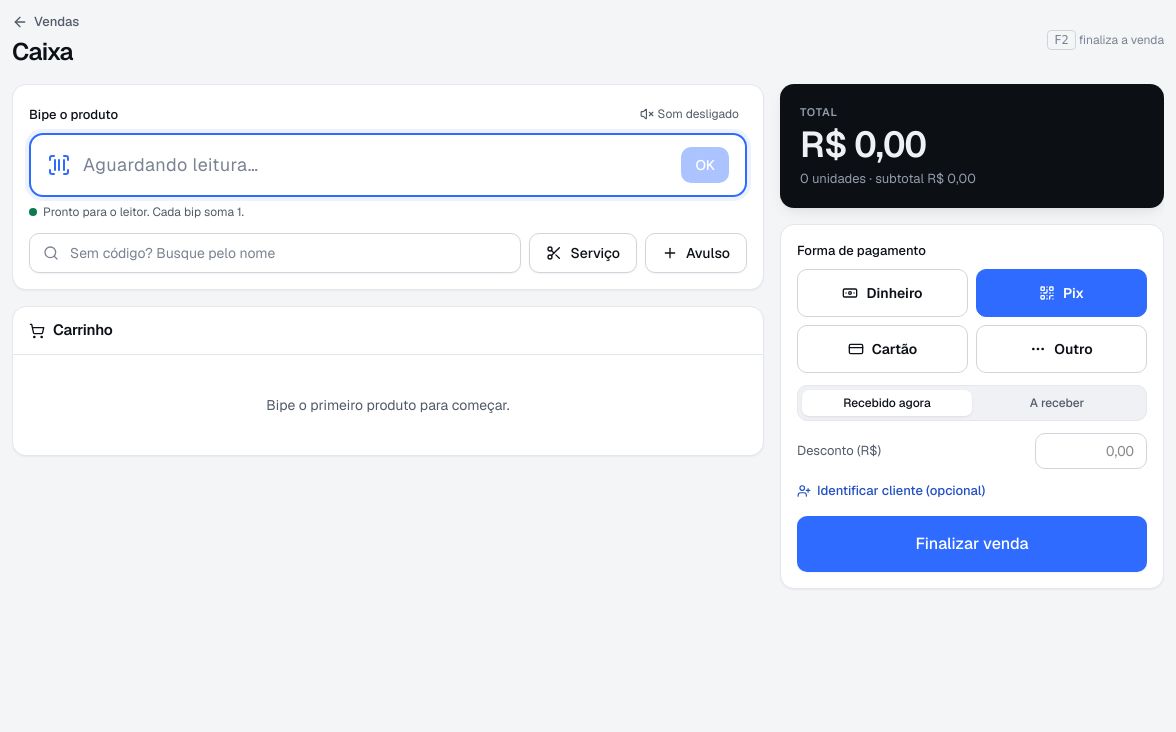
Scenario: Caixa (PDV) › codigo desconhecido: "Produto não encontrado." e nada entra no carrinho
In the field labelled "Bipe o produto": point(376, 165) x1=83 y1=135 x2=670 y2=195, type "0000"
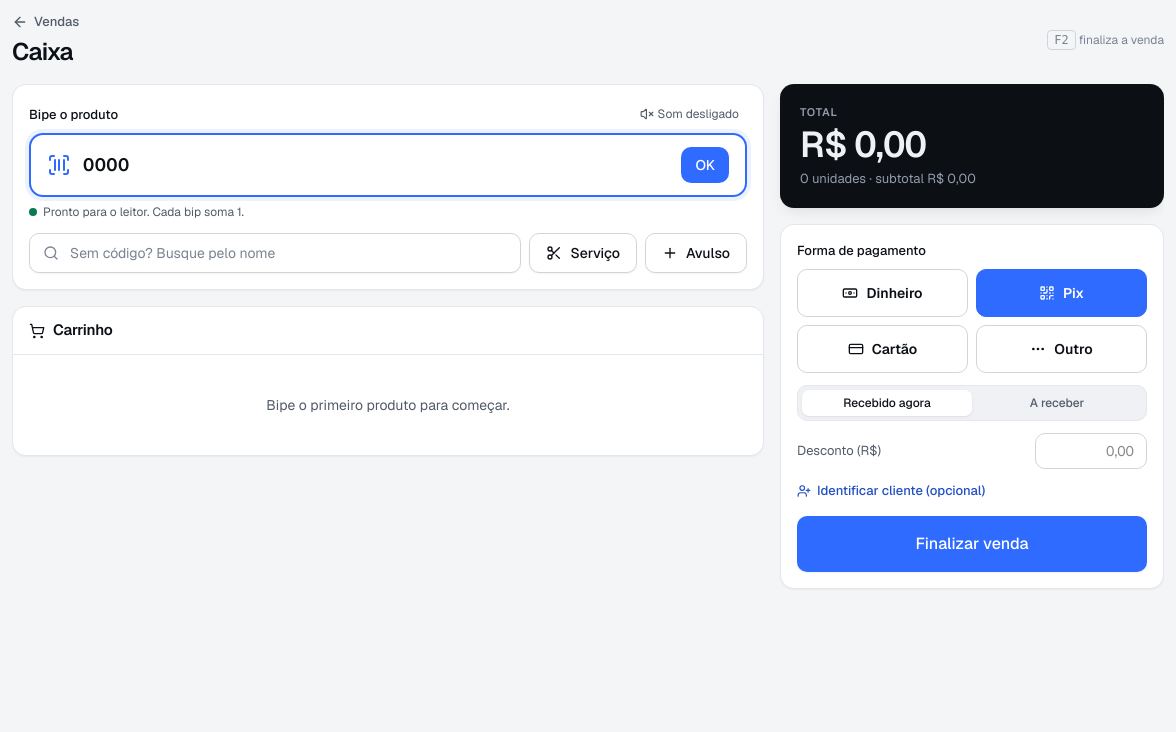
Press Enter in the field labelled "Bipe o produto", box x1=83 y1=135 x2=670 y2=195
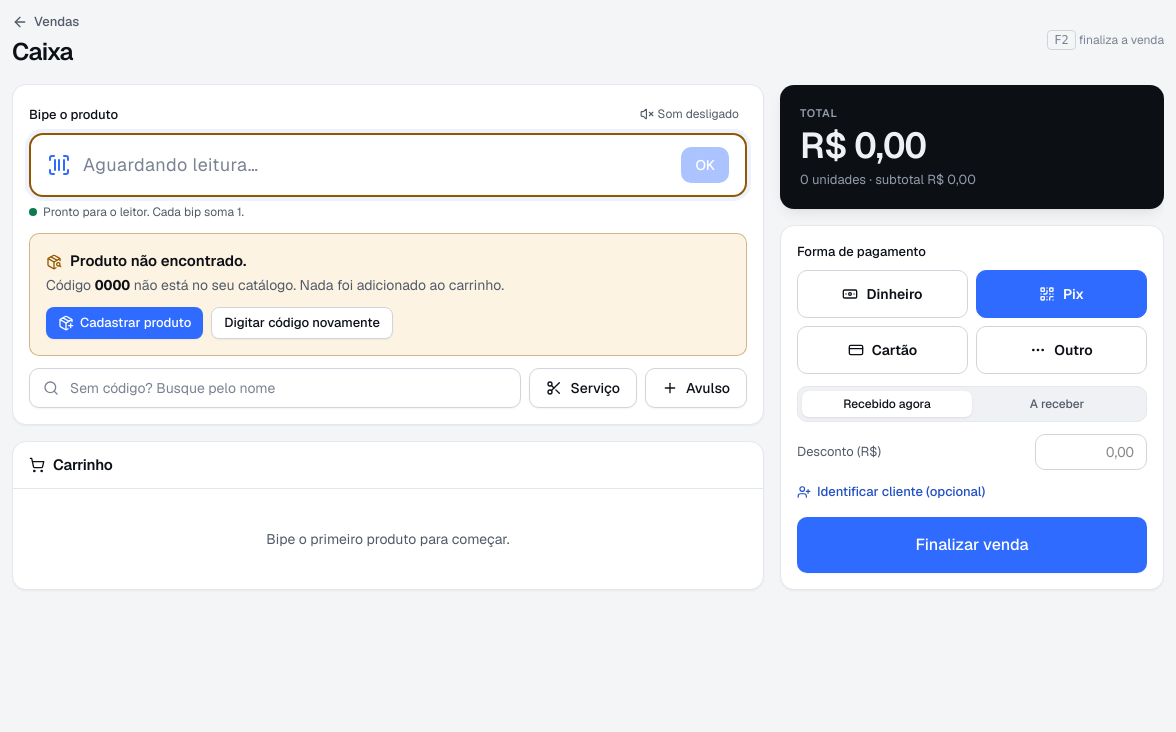
Now the text "Produto não encontrado." is shown, box x1=46 y1=251 x2=246 y2=270
Now the button "Cadastrar produto" is shown, box x1=46 y1=307 x2=203 y2=339
Now the button "Digitar código novamente" is shown, box x1=211 y1=307 x2=393 y2=339
